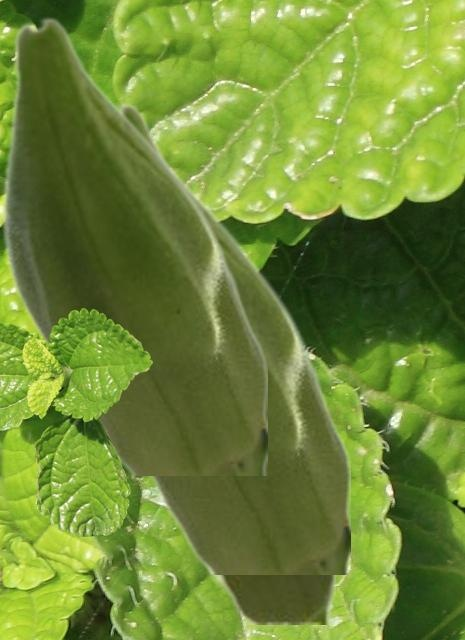okra: (1, 16, 266, 474), (118, 102, 349, 573), (200, 566, 334, 623)
